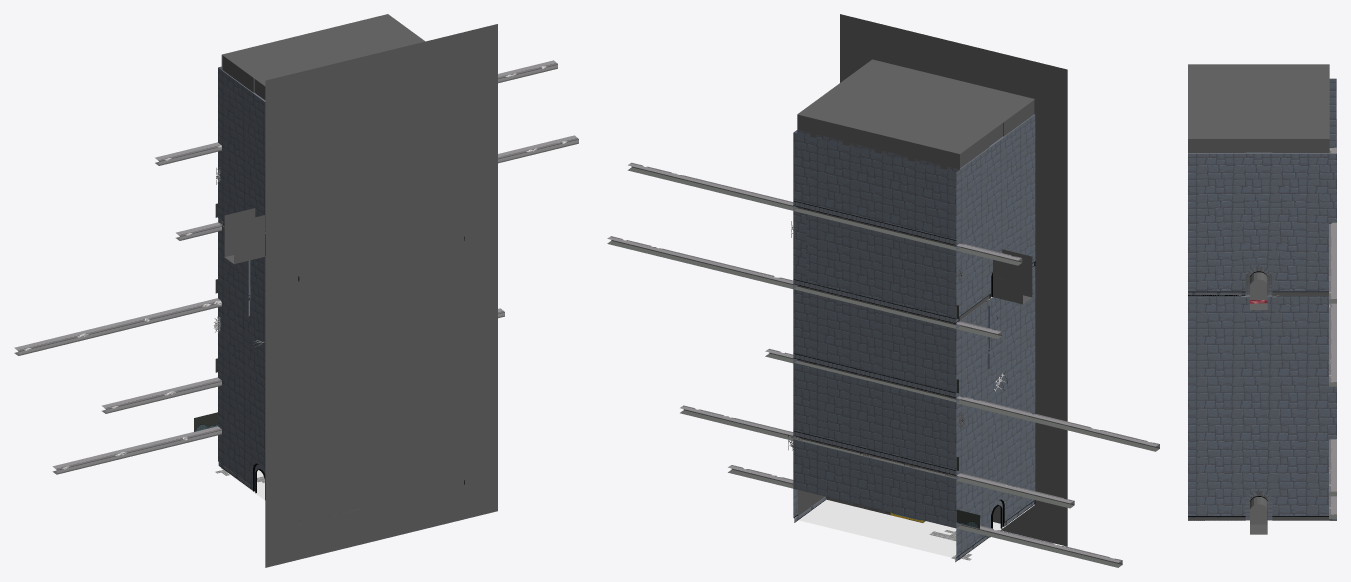
Rendered from gon_08_bake.dae.
The picture shows the model from 3 angles, left to right: view 1: azimuth 30°, elevation 25°; view 2: azimuth 150°, elevation 25°; view 3: azimuth 270°, elevation 25°; orthographic projection. The views are drawn at different scales.
Parts seen in each view (by area): view 1: a_kabeoku02, kuro5, polySurface205_q00079_part0, a_ten_01, polySurface204_q00077_part0, pCube151_q00117_part0, polySurface812_q00003, pCube151_q00115_part0, pCube151_q00118_part0, pCube151_q00116_part0, pCube151_q00119_part0; view 2: kuro5, polySurface205_q00079_part0, a_ten_01, polySurface836_q00031_part0, polySurface836_q00028_part0, polySurface836_q00020_part0, polySurface204_q00077_part0, polySurface836_q00023_part0, polySurface415_q00018, a_kabeoku01, yuka5, pCube151_q00119_part0 (+11 smaller); view 3: polySurface205_q00078_part0, polySurface204_q00076_part0, a_ten_01, a_kabeyoko_012, pCube151_q00119_part0, polySurface204_q00076_part1, pCube151_q00118_part0, a_kabeyoko_013, polySurface204_q00077_part0, polySurface205_q00078_part1, pCube151_q00116_part0, polySurface822_q00073 (+1 smaller).
Boxes of the visible parts, x1,y1,x2,y2 form: a_kabeoku02: (298,75,464,523); kuro5: (265,24,497,567); polySurface205_q00079_part0: (218,224,265,486); a_ten_01: (222,14,425,85); polySurface204_q00077_part0: (218,68,265,227); pCube151_q00117_part0: (14,298,221,355); polySurface812_q00003: (224,208,264,264); pCube151_q00115_part0: (52,426,221,474); pCube151_q00118_part0: (176,135,578,240); pCube151_q00116_part0: (102,308,504,413); pCube151_q00119_part0: (155,60,557,165); kuro5: (840,14,1067,546); polySurface205_q00079_part0: (956,266,1035,556); a_ten_01: (797,59,1034,153); polySurface836_q00031_part0: (793,362,956,470); polySurface836_q00028_part0: (793,132,956,240); polySurface836_q00020_part0: (793,289,956,392); polySurface204_q00077_part0: (956,115,1035,318); polySurface836_q00023_part0: (806,214,956,318); polySurface415_q00018: (793,439,956,528); a_kabeoku01: (797,114,959,476); yuka5: (798,499,1034,557); pCube151_q00119_part0: (627,162,1022,265); polySurface205_q00078_part0: (1188,296,1336,515); polySurface204_q00076_part0: (1188,153,1336,291); a_ten_01: (1188,64,1329,138); a_kabeyoko_012: (1188,139,1329,295); pCube151_q00119_part0: (1329,119,1336,303); polySurface204_q00076_part1: (1188,266,1328,295); pCube151_q00118_part0: (1329,303,1336,386); a_kabeyoko_013: (1188,296,1329,520); polySurface204_q00077_part0: (1329,78,1336,147); polySurface205_q00078_part1: (1188,492,1336,520); pCube151_q00116_part0: (1329,439,1336,496); polySurface822_q00073: (1250,504,1267,524).
Size of the model in its own units: 168 by 140 by 42.
